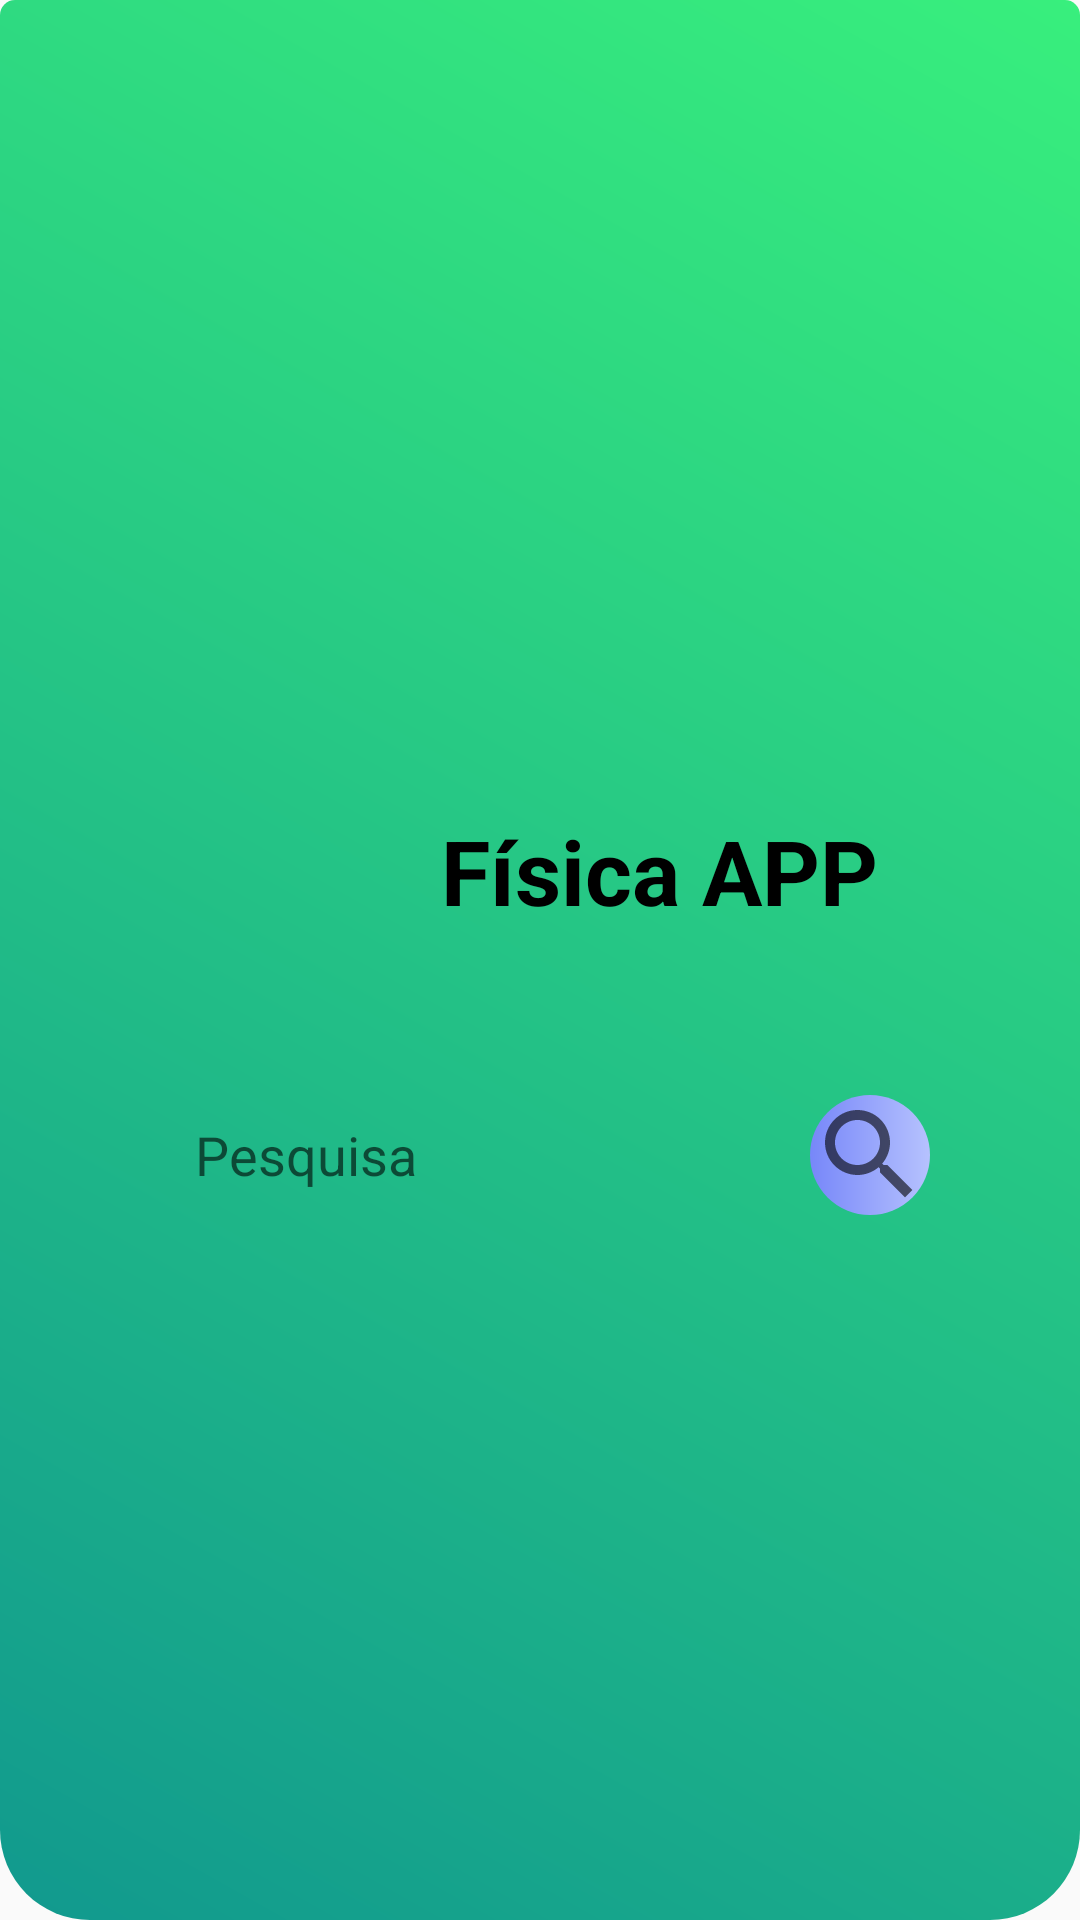

Icon bounding boxes for this 1080×1920 phone screenshot, format BBox(x1, y1, x2, y2):
busca: BBox(810, 1095, 930, 1215)
